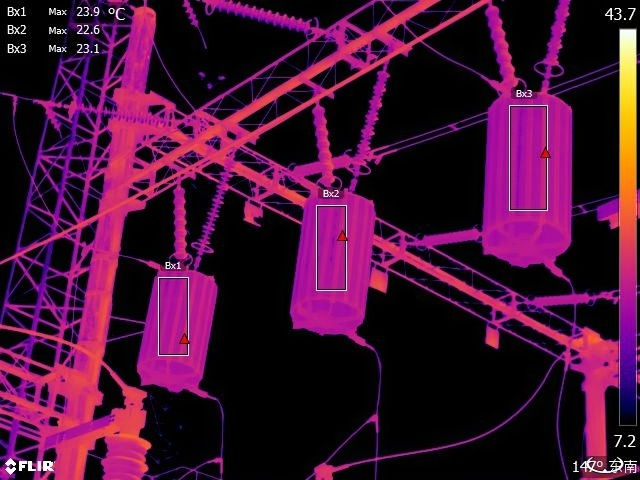insulator: (349, 63, 398, 177), (190, 150, 236, 255), (202, 1, 316, 39), (76, 96, 194, 129), (484, 2, 520, 87), (537, 1, 578, 73), (414, 219, 485, 255), (309, 99, 335, 186), (528, 284, 599, 314), (168, 178, 191, 266), (171, 1, 206, 34)
post insulator: (95, 432, 161, 480)
switch: (34, 391, 157, 457)
wave trap: (471, 82, 586, 272), (280, 176, 387, 345), (130, 249, 228, 395)
